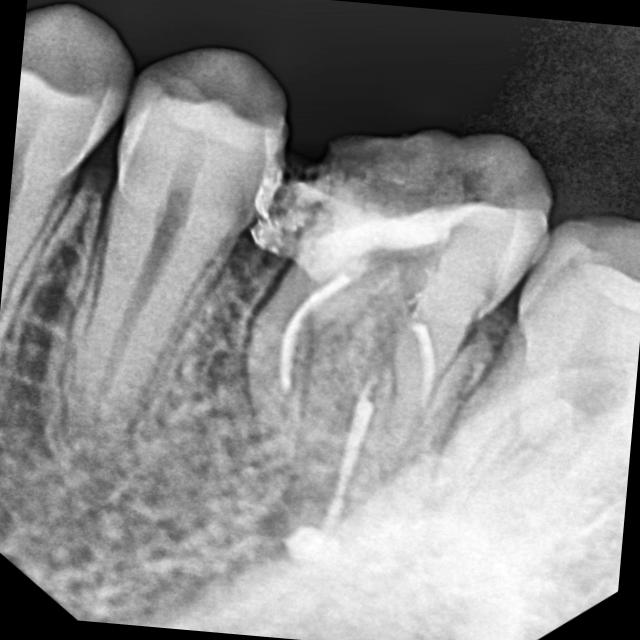RCT: (235, 258, 448, 580)
Restoration: (216, 108, 570, 308)
